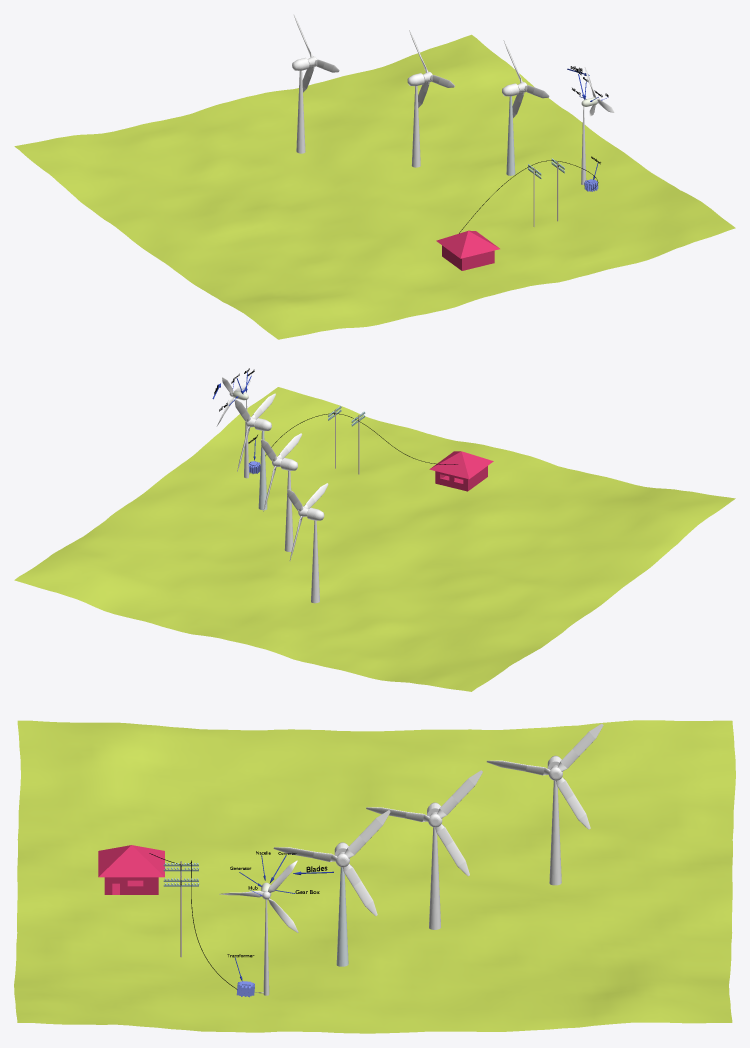
File: Wind Energy.blend3.gltf
3 renders of one model, top to bottom at view 1: azimuth 30°, elevation 25°; view 2: azimuth 150°, elevation 25°; view 3: azimuth 270°, elevation 25°, orthographic. The views are drawn at different scales.
Parts seen in each view (by area): view 1: Plane, Cube, Cylinder.008, Cylinder.006, Cylinder.005, Cylinder.002; view 2: Plane, Cube, Cylinder.002, Cylinder.008, Cylinder.005, Cylinder.006; view 3: Plane, Cube, Cylinder.002, Cylinder.008, Cylinder.005, Cylinder.006, Cylinder.003, Cylinder, Cylinder.009.
Boxes of the visible parts, x1,y1,x2,y2 form: Plane: (14,34,735,339); Cube: (436,230,499,270); Cylinder.008: (293,14,339,92); Cylinder.006: (296,70,305,153); Cylinder.005: (409,30,454,107); Cylinder.002: (503,40,549,117); Plane: (14,387,735,691); Cube: (429,451,493,491); Cylinder.002: (234,393,275,471); Cylinder.008: (287,483,328,561); Cylinder.005: (261,433,302,511); Cylinder.006: (311,520,319,603); Plane: (14,720,735,1033); Cube: (98,845,164,894); Cylinder.002: (273,810,390,916); Cylinder.008: (486,723,603,829); Cylinder.005: (366,770,482,876); Cylinder.006: (549,780,561,885); Cylinder.003: (429,827,440,929); Cylinder: (336,867,348,966); Cylinder.009: (219,860,298,932).
Size of the model in its own units: 6.16 by 1.6 by 6.18.
